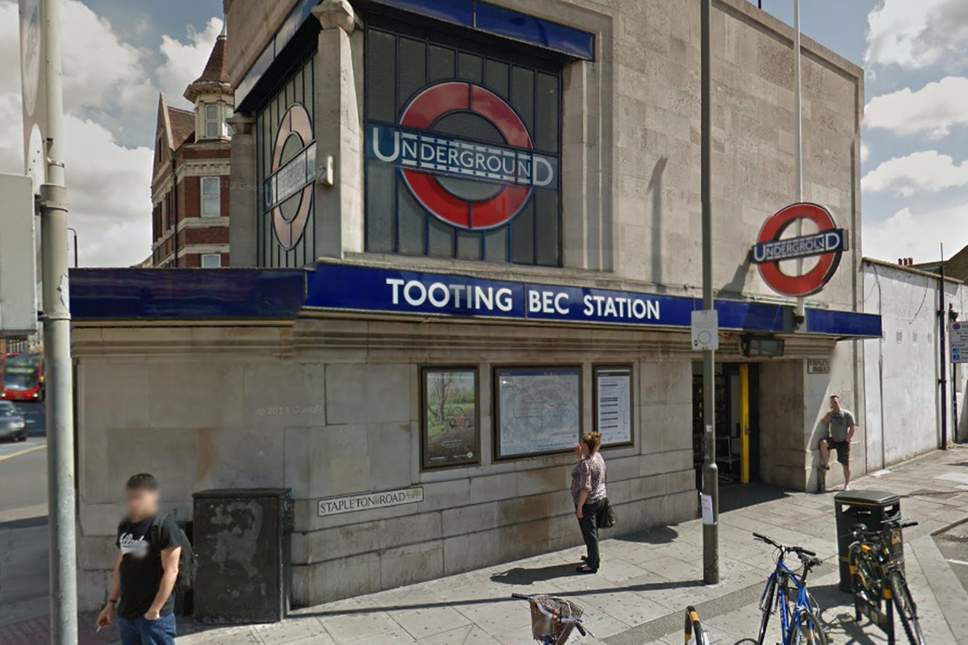London Underground: (362, 78, 563, 233), (748, 200, 851, 293), (267, 106, 315, 251)
